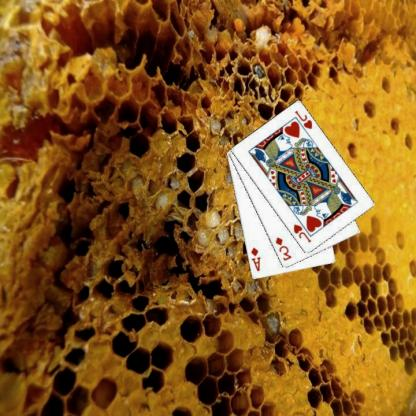3D: (274, 235, 294, 262)
AD: (250, 245, 264, 273)
JH: (294, 108, 316, 131), (292, 222, 314, 244)
